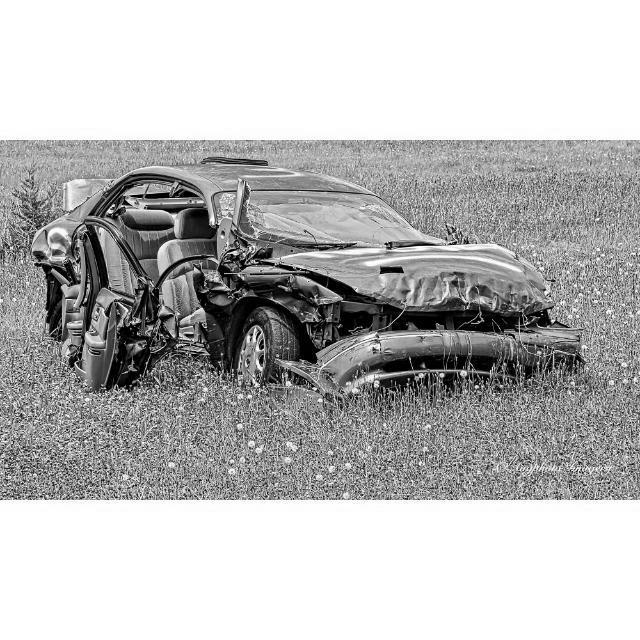Front-windscreen-damage: (210, 188, 414, 244)
bonnet-dent: (294, 259, 521, 313)
fender-dent: (213, 256, 332, 316)
front-bumper-dent: (319, 287, 551, 398)
roof-dent: (145, 157, 365, 195)
